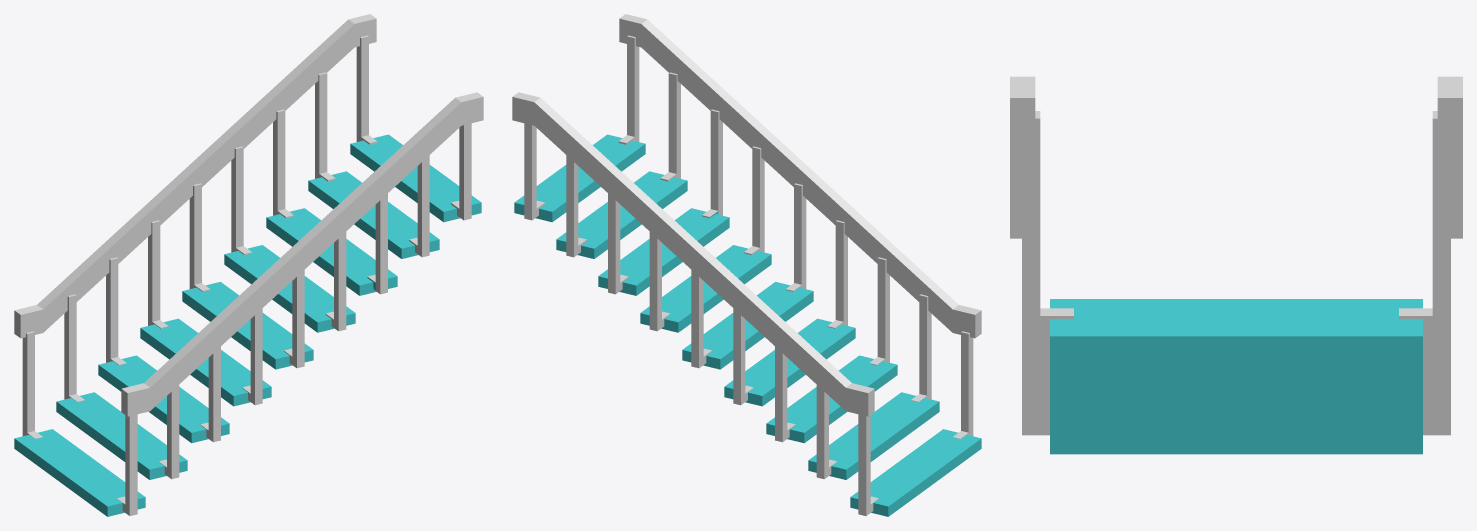
File: Escada.glb
3 renders of one model, left to right at view 1: azimuth 30°, elevation 25°; view 2: azimuth 150°, elevation 25°; view 3: azimuth 270°, elevation 25°, orthographic. The views are drawn at different scales.
Parts seen in each view (by area): view 1: tabua; view 2: tabua; view 3: tabua.
Part boxes in pixels (left/top/right/bottom): tabua: left=14, top=14, right=483, bottom=516; tabua: left=512, top=14, right=981, bottom=516; tabua: left=1010, top=76, right=1462, bottom=454.
Bounding box in the file's own units: 38.95 × 33.64 × 20.41.
